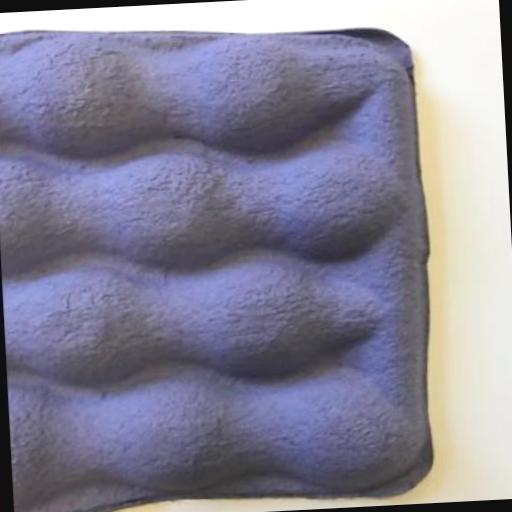cardboard: (0, 7, 439, 512)
